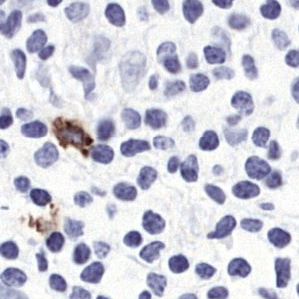Lymphocyte: (53, 116, 94, 152)
